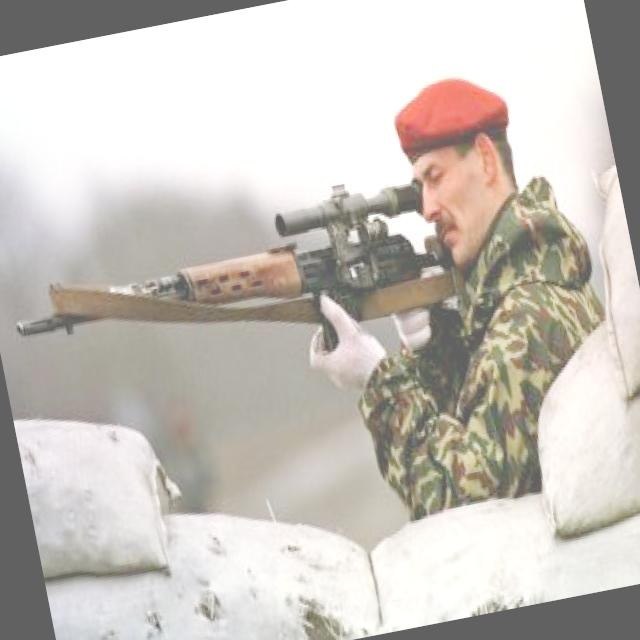rifle: (0, 165, 463, 391)
